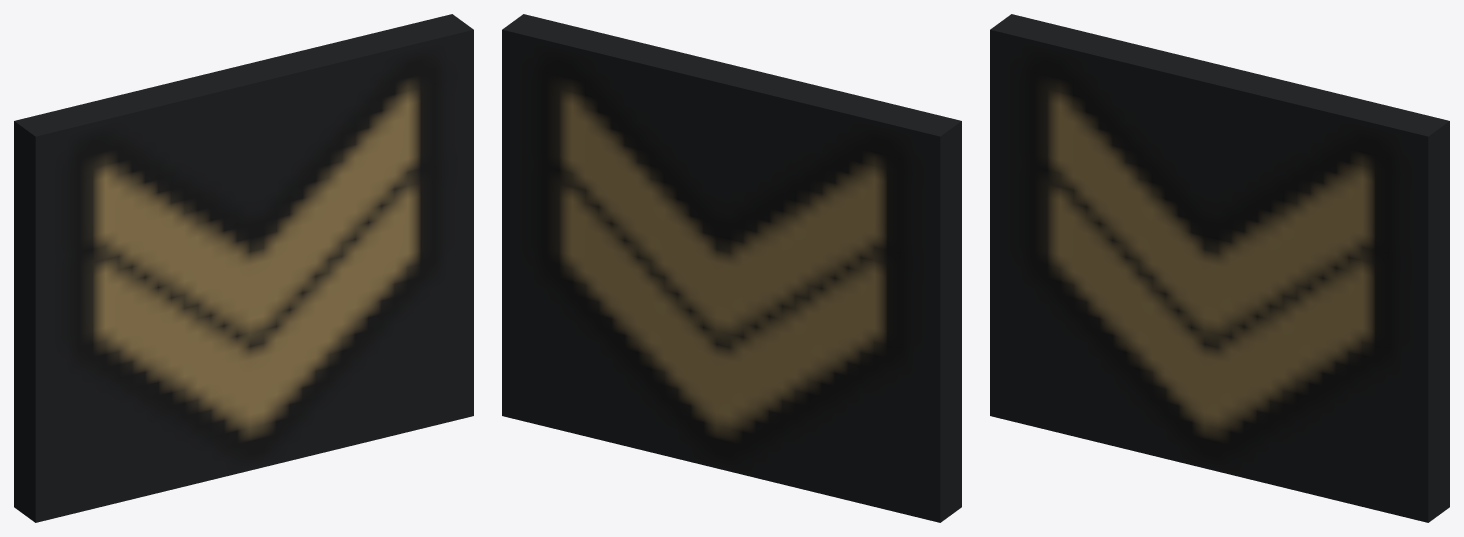
The model's file is SM_Chr_Attach_Patch_Rank_02.fbx.
3 views of the same model, side by side, from view 1: azimuth 30°, elevation 25°; view 2: azimuth 150°, elevation 25°; view 3: azimuth 330°, elevation 25° (orthographic).
Visible parts, largest first — view 1: SM_Chr_Attach_Patch_Rank_02; view 2: SM_Chr_Attach_Patch_Rank_02; view 3: SM_Chr_Attach_Patch_Rank_02.
Part boxes in pixels (x1=…): SM_Chr_Attach_Patch_Rank_02: x1=14, y1=14, x2=473, y2=522; SM_Chr_Attach_Patch_Rank_02: x1=502, y1=14, x2=961, y2=522; SM_Chr_Attach_Patch_Rank_02: x1=990, y1=14, x2=1449, y2=522.
Bounding box in the file's own units: 7.08 × 5.96 × 0.6004.
